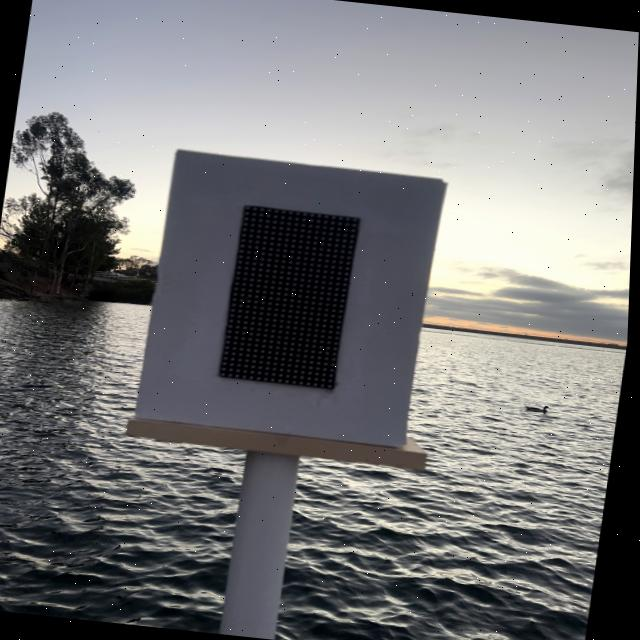led: (150, 160, 427, 431)
